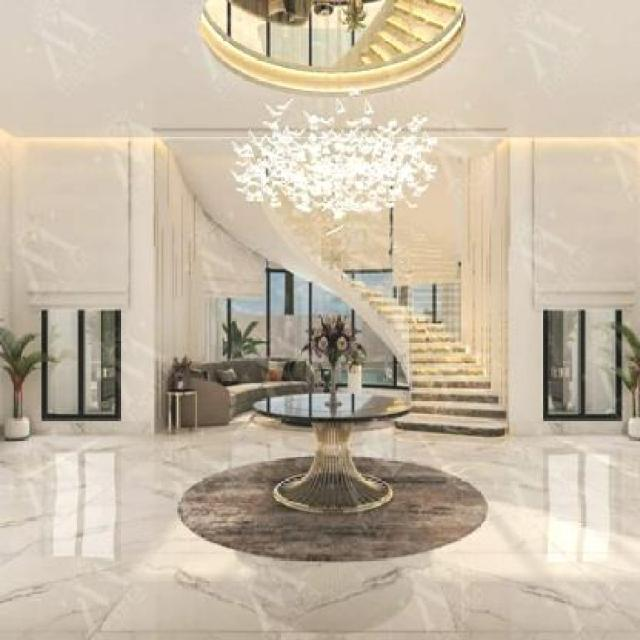stair: (374, 244, 554, 453)
